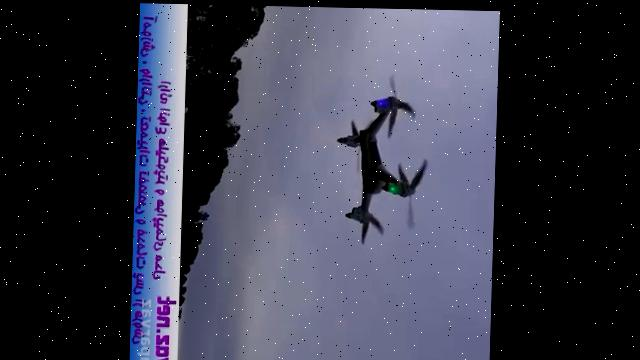drone: (332, 70, 437, 250)
